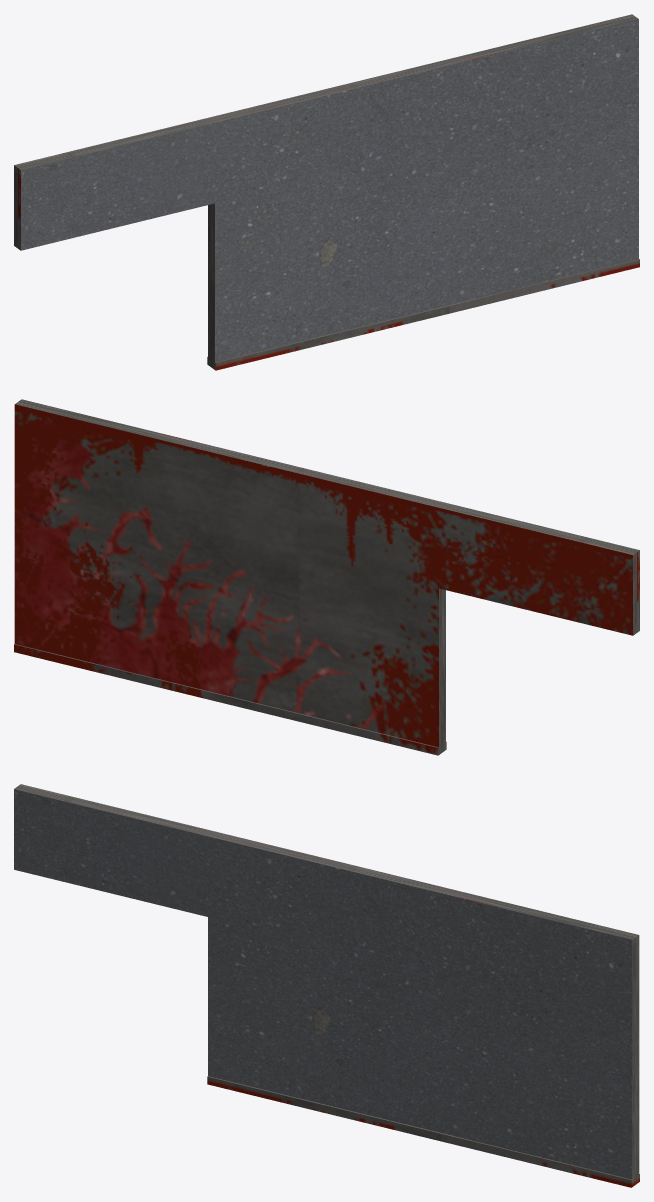
The model's file is paredlatera.fbx.
3 renders of one model, top to bottom at view 1: azimuth 30°, elevation 25°; view 2: azimuth 150°, elevation 25°; view 3: azimuth 330°, elevation 25°, orthographic.
Parts seen in each view (by area): view 1: Cube.742; view 2: Cube.742; view 3: Cube.742.
Boxes of the visible parts, x1,y1,x2,y2 form: Cube.742: (14,14,639,370); Cube.742: (14,399,639,755); Cube.742: (14,784,639,1187).
Bounding box in the file's own units: 975 × 373 × 23.06.
